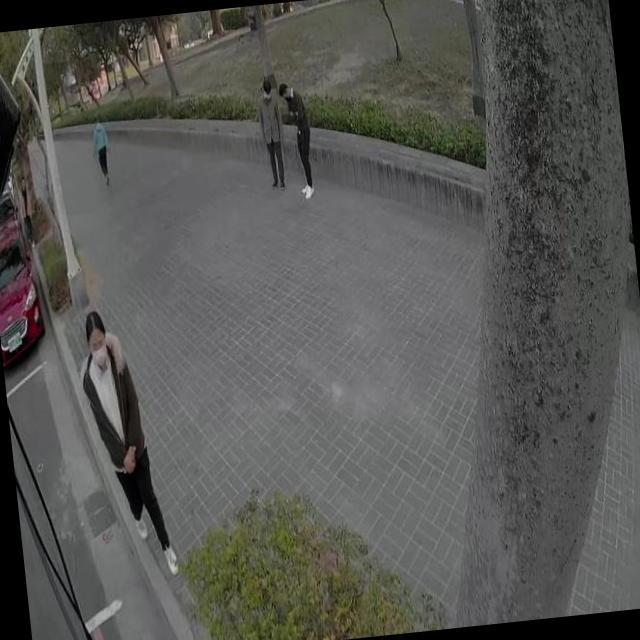person: (74, 307, 170, 564), (280, 78, 317, 199), (256, 79, 290, 190), (92, 116, 114, 184), (19, 171, 35, 241)
